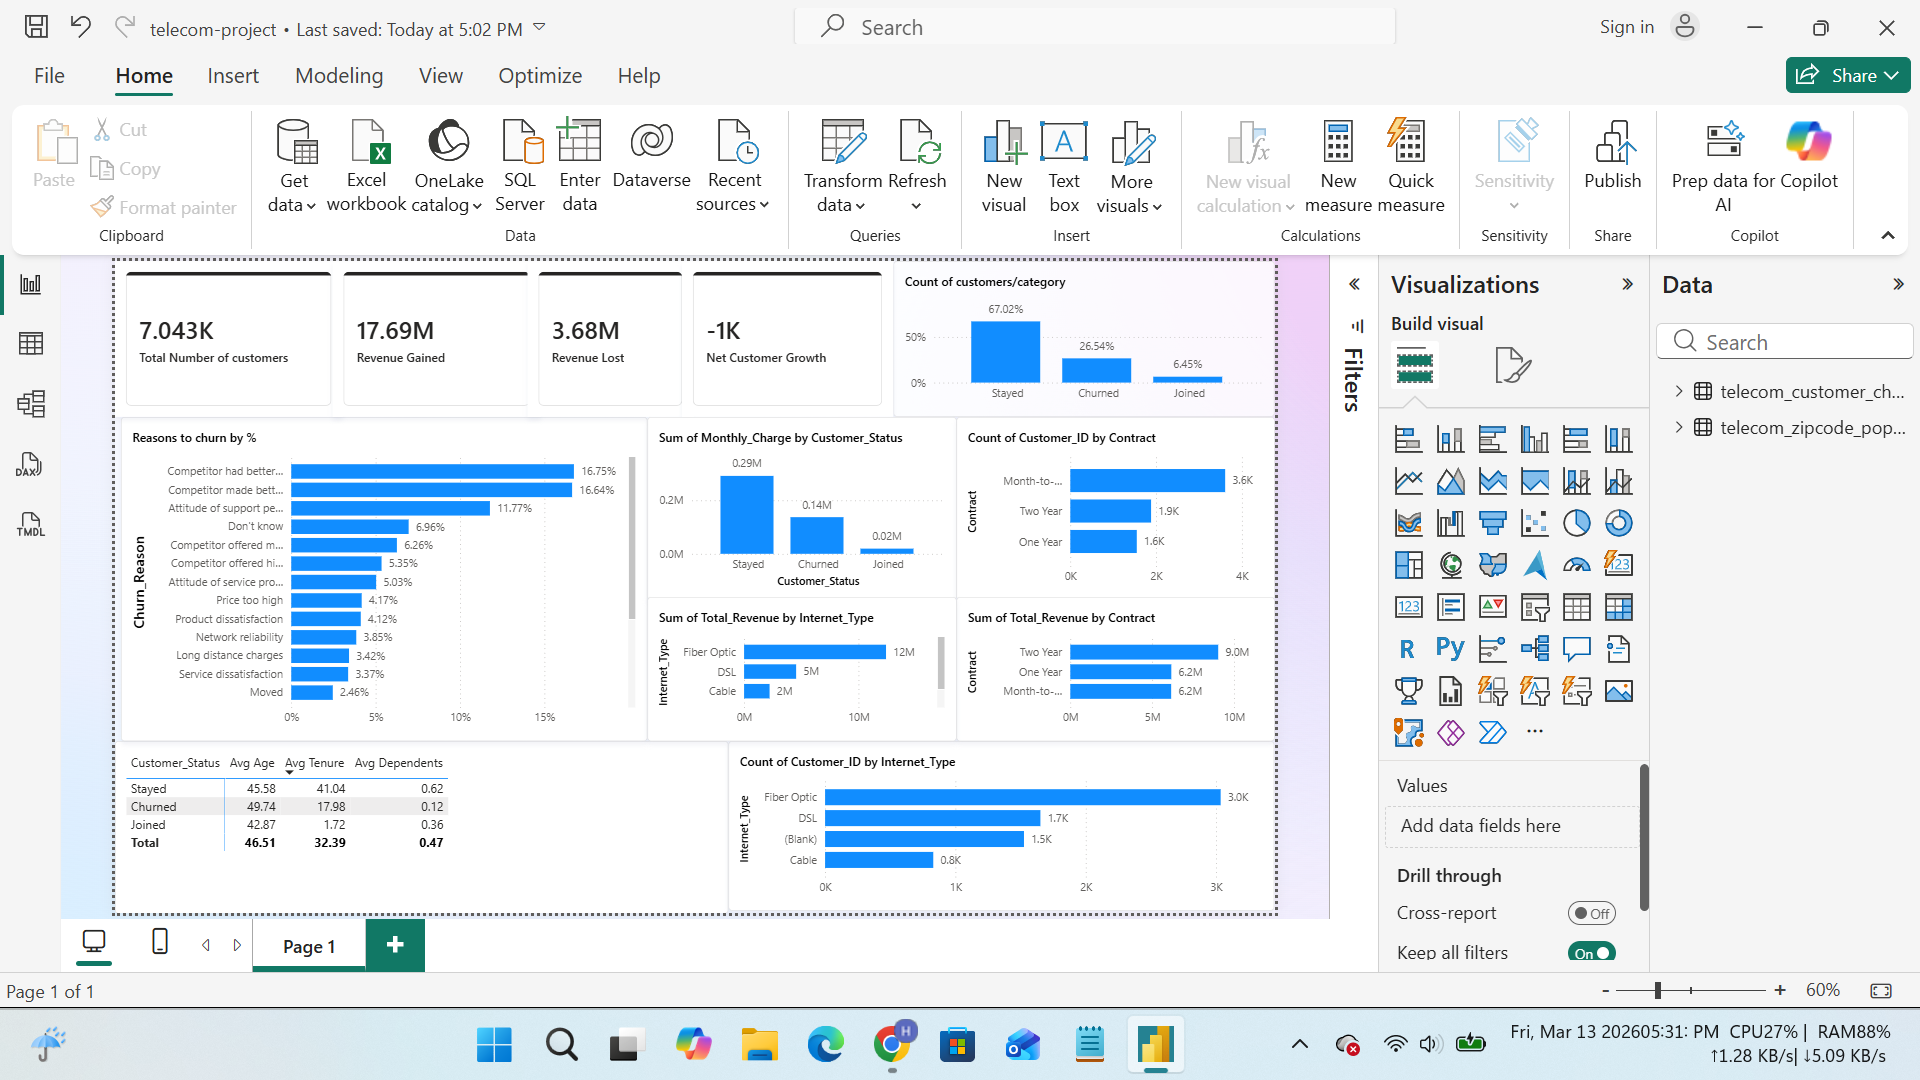

The page's visual inventory and layout, read from the dashboard file:
{"tool":"powerbi","page":{"name":"Page 1","canvas":[1280,720],"ordinal":0},"visuals":[{"type":"pivotTable","fields":{"Rows":["telecom_customer_churn.Customer_Status"],"Values":["telecom_customer_churn.Avg Age","telecom_customer_churn.Avg Tenure","telecom_customer_churn.Avg Dependents"]},"box":[0,530.1,677.5,190.5],"z":0},{"type":"columnChart","title":"Count of customers/category","fields":{"Category":["telecom_customer_churn.Customer_Status"],"Y":["CountNonNull(telecom_customer_churn.Customer_ID)"]},"box":[859.7,0,420.7,172.3],"z":1000},{"type":"barChart","title":"Reasons to churn by %","fields":{"Category":["telecom_customer_churn.Churn_Reason"],"Y":["CountNonNull(telecom_customer_churn.Churn_Reason)"]},"box":[6.6,172.3,581.4,357.8],"z":2000},{"type":"cardVisual","fields":{"Data":["Count(telecom_customer_churn.Customer_ID)"]},"box":[0,0,251.8,172.3],"z":3000},{"type":"cardVisual","fields":{"Data":["telecom_customer_churn.Revenue Gained"]},"box":[240.2,0,230.3,172.3],"z":4000},{"type":"cardVisual","fields":{"Data":["telecom_customer_churn.Revenue Lost"]},"box":[455.5,0,183.9,172.3],"z":5000},{"type":"cardVisual","fields":{"Data":["telecom_customer_churn.Net Customer Growth"]},"box":[626.1,0,233.6,172.3],"z":6000},{"type":"clusteredColumnChart","fields":{"Category":["telecom_customer_churn.Customer_Status"],"Y":["Sum(telecom_customer_churn.Monthly_Charge)"]},"box":[588.1,172.3,341.2,202.1],"z":7000},{"type":"barChart","fields":{"Category":["telecom_customer_churn.Contract"],"Y":["CountNonNull(telecom_customer_churn.Customer_ID)"]},"box":[929.3,172.3,351.2,202.1],"z":8000},{"type":"clusteredBarChart","fields":{"Category":["telecom_customer_churn.Internet_Type"],"Y":["CountNonNull(telecom_customer_churn.Customer_ID)"]},"box":[677.5,530.1,603,187.2],"z":9000},{"type":"barChart","fields":{"Y":["Sum(telecom_customer_churn.Total_Revenue)"],"Category":["telecom_customer_churn.Contract"]},"box":[929.3,371.1,351.2,159],"z":9001},{"type":"clusteredBarChart","fields":{"Category":["telecom_customer_churn.Internet_Type"],"Y":["Sum(telecom_customer_churn.Total_Revenue)"]},"box":[588.1,371.1,341.2,159],"z":9002}]}

Visuals, with their boxes on the page's 1280x720 design canvas (x1, y1, x2, y2). These are canvas units, not pixel positions in the 1920x1080 screenshot, which may show the page scaled, cropped or inside an application window:
pivotTable - telecom_customer_churn.Customer_Status x telecom_customer_churn.Avg Age: select_region(0, 530, 678, 721)
"Count of customers/category" columnChart: select_region(860, 0, 1280, 172)
"Reasons to churn by %" barChart: select_region(7, 172, 588, 530)
cardVisual - Count(telecom_customer_churn.Customer_ID): select_region(0, 0, 252, 172)
cardVisual - telecom_customer_churn.Revenue Gained: select_region(240, 0, 470, 172)
cardVisual - telecom_customer_churn.Revenue Lost: select_region(456, 0, 639, 172)
cardVisual - telecom_customer_churn.Net Customer Growth: select_region(626, 0, 860, 172)
clusteredColumnChart - telecom_customer_churn.Customer_Status x Sum(telecom_customer_churn.Monthly_Charge): select_region(588, 172, 929, 374)
barChart - telecom_customer_churn.Contract x CountNonNull(telecom_customer_churn.Customer_ID): select_region(929, 172, 1280, 374)
clusteredBarChart - telecom_customer_churn.Internet_Type x CountNonNull(telecom_customer_churn.Customer_ID): select_region(678, 530, 1280, 717)
barChart - Sum(telecom_customer_churn.Total_Revenue) x telecom_customer_churn.Contract: select_region(929, 371, 1280, 530)
clusteredBarChart - telecom_customer_churn.Internet_Type x Sum(telecom_customer_churn.Total_Revenue): select_region(588, 371, 929, 530)
